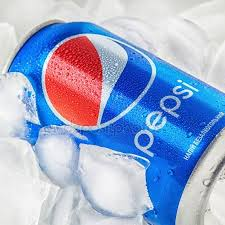can: (5, 10, 224, 221)
